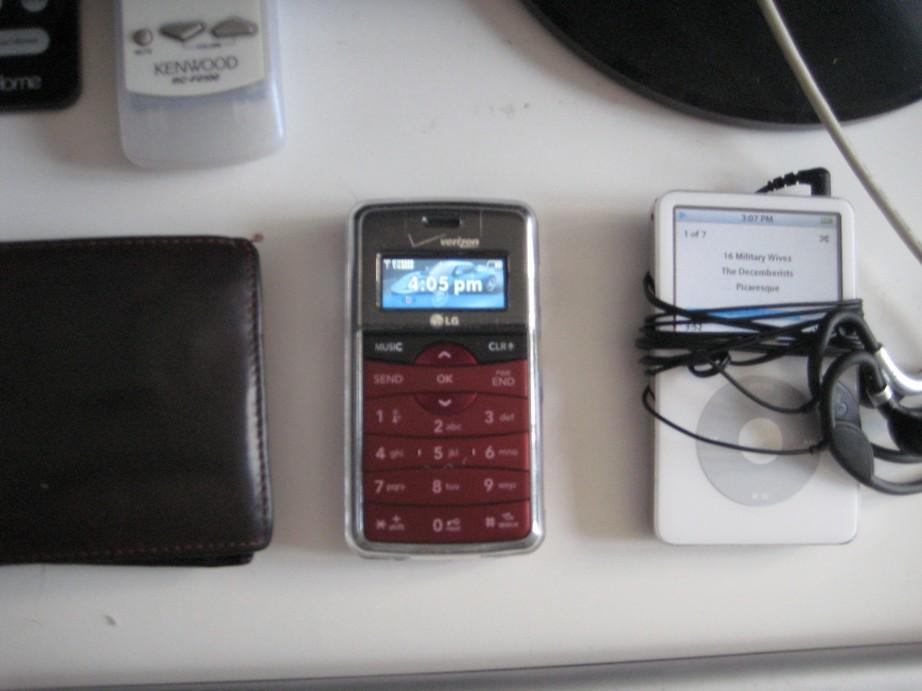computer: (2, 1, 921, 690)
